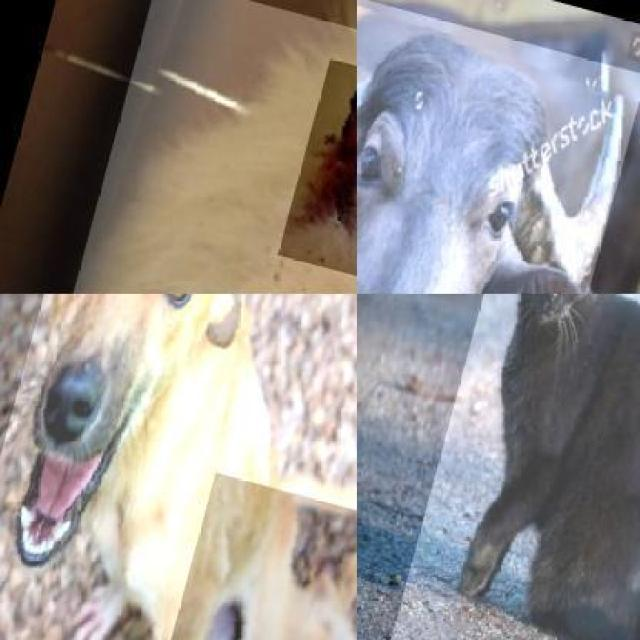buffalo: (357, 0, 640, 294)
cat: (0, 0, 357, 294), (389, 294, 640, 640)
dog: (0, 294, 357, 640)
injured: (141, 472, 357, 640), (277, 59, 357, 292)
